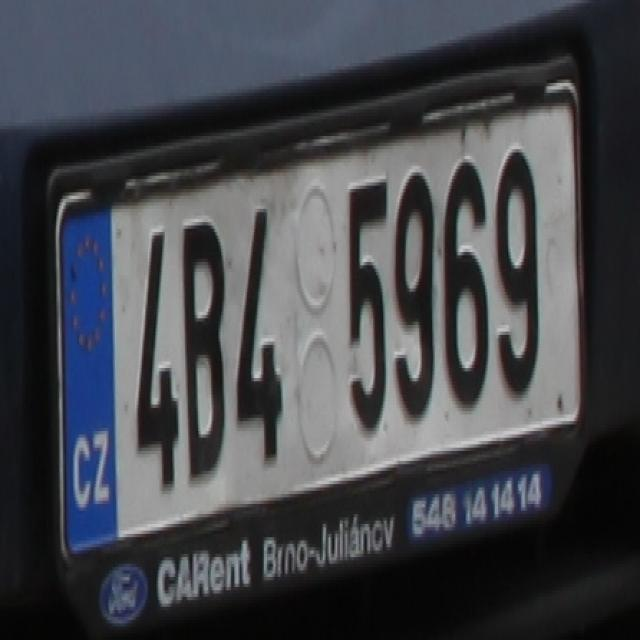4: (228, 202, 286, 461), (134, 229, 182, 504)
5: (344, 162, 390, 438)
6: (438, 152, 488, 408)
9: (494, 143, 541, 391), (394, 159, 434, 418)
B: (181, 209, 227, 494)
